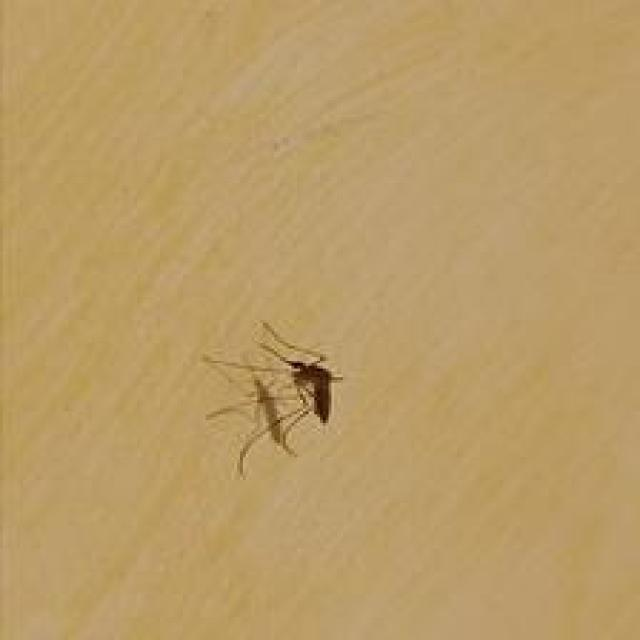Culex: (202, 320, 344, 477)
